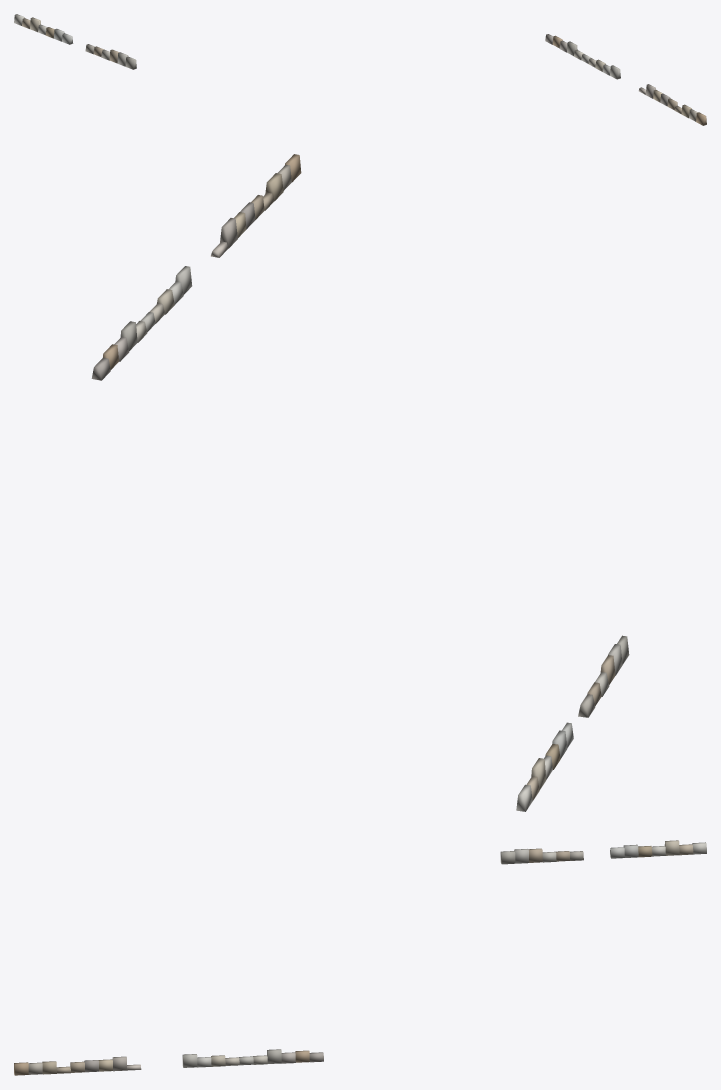
File: farm_-25_-24_collision.glb
3 renders of one model, top to bottom at view 1: azimuth 30°, elevation 25°; view 2: azimuth 150°, elevation 25°; view 3: azimuth 270°, elevation 25°, orthographic. The views are drawn at different scales.
Visible parts, largest first — view 1: geometry_0; view 2: geometry_0; view 3: geometry_0.
Part boxes in pixels (x1,y1,x2,y2): geometry_0: (14,14,706,125); geometry_0: (91,154,629,811); geometry_0: (14,840,706,1075).
Size of the model in its own units: 61.05 by 2.86 by 75.51.
